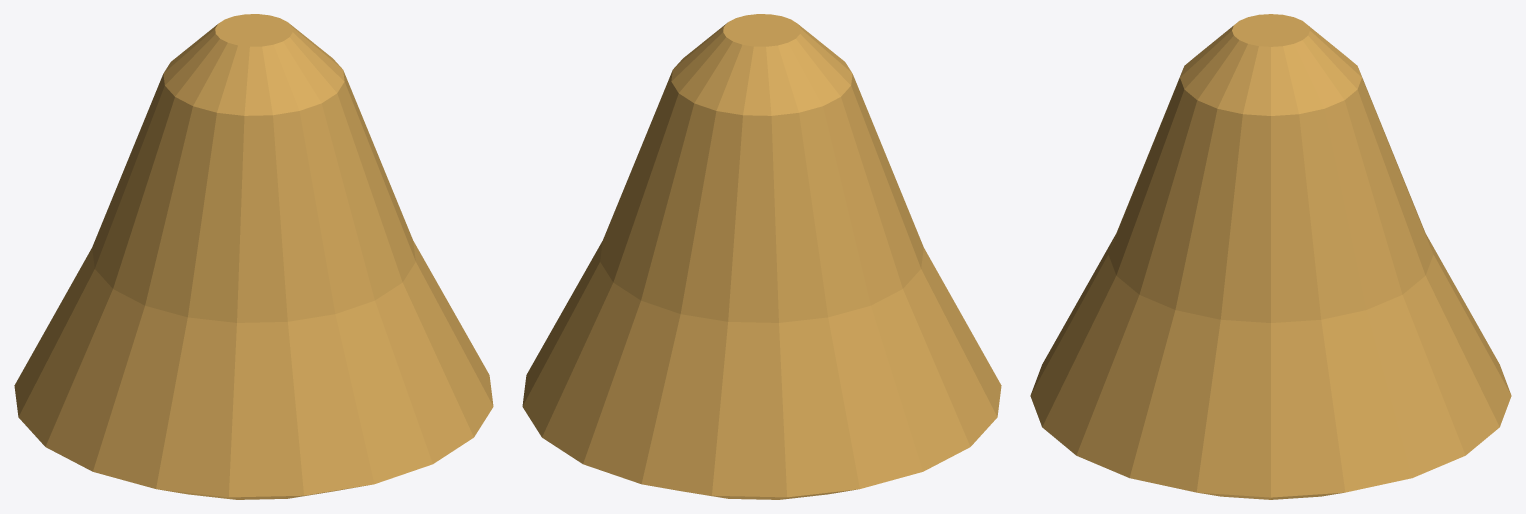
Rendered from SM_Interact_WitnessBell.fbx.
3 views of the same model, side by side, from view 1: azimuth 30°, elevation 25°; view 2: azimuth 150°, elevation 25°; view 3: azimuth 270°, elevation 25° (orthographic).
Visible parts, largest first — view 1: SM_Interact_WitnessBell; view 2: SM_Interact_WitnessBell; view 3: SM_Interact_WitnessBell.
Boxes of the visible parts, <box> form: SM_Interact_WitnessBell: <box>14,14,493,499</box>; SM_Interact_WitnessBell: <box>522,14,1001,499</box>; SM_Interact_WitnessBell: <box>1030,14,1511,499</box>.
Size of the model in its own units: 0.74 by 0.74 by 0.68.
